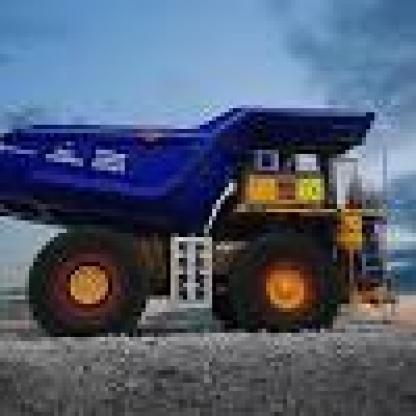dump_truck: (4, 62, 408, 374)
